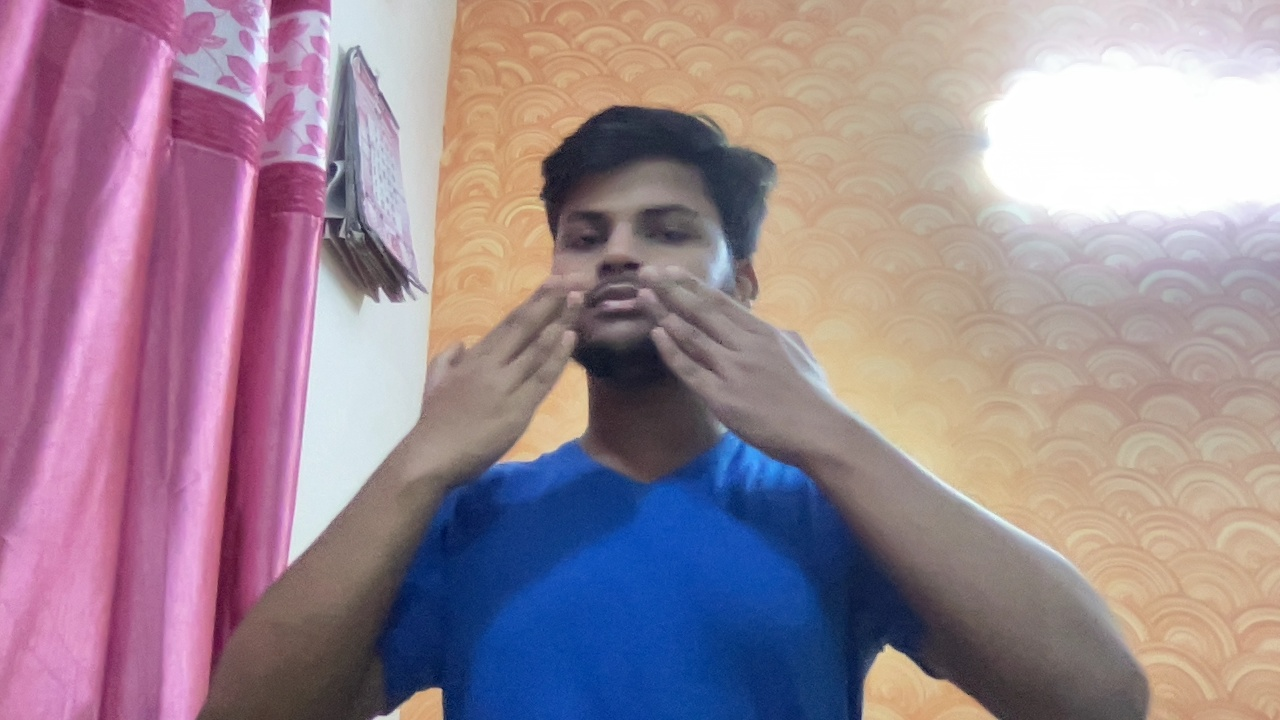thankyou: (372, 267, 931, 487)
